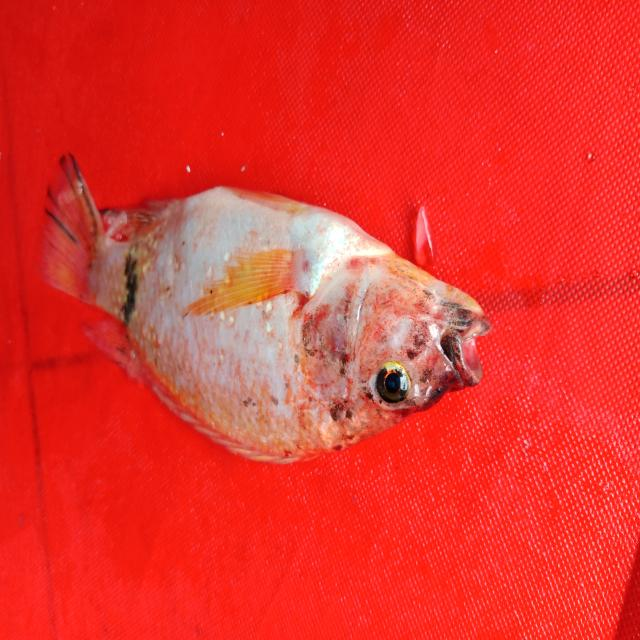ikan: (23, 128, 500, 483)
